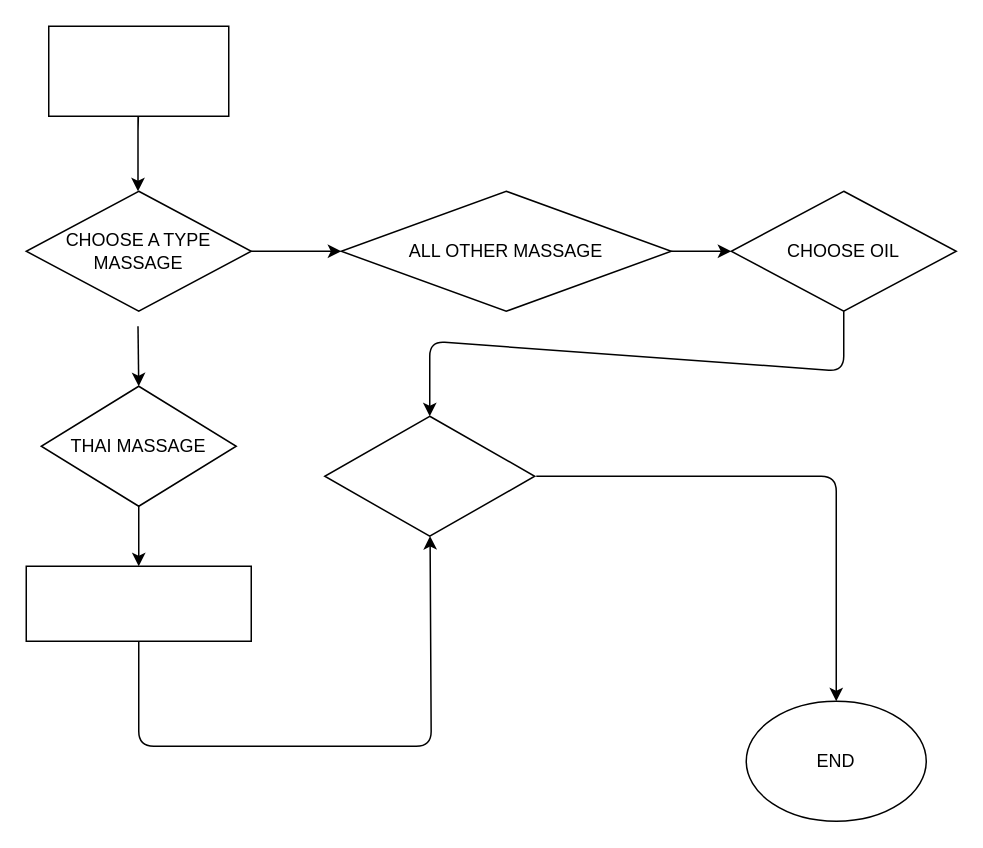
The diagram is 983 pixels wide and 848 high, and some of its shapes have lost their labels. Here are the shapes that lost their labels. From the top down, the box of each, then its label:
(47, 25, 229, 116): START ZEN APP
(323, 415, 535, 536): CHOOSE UPGRADES
(25, 565, 251, 641): NO OILS REQUIRED
